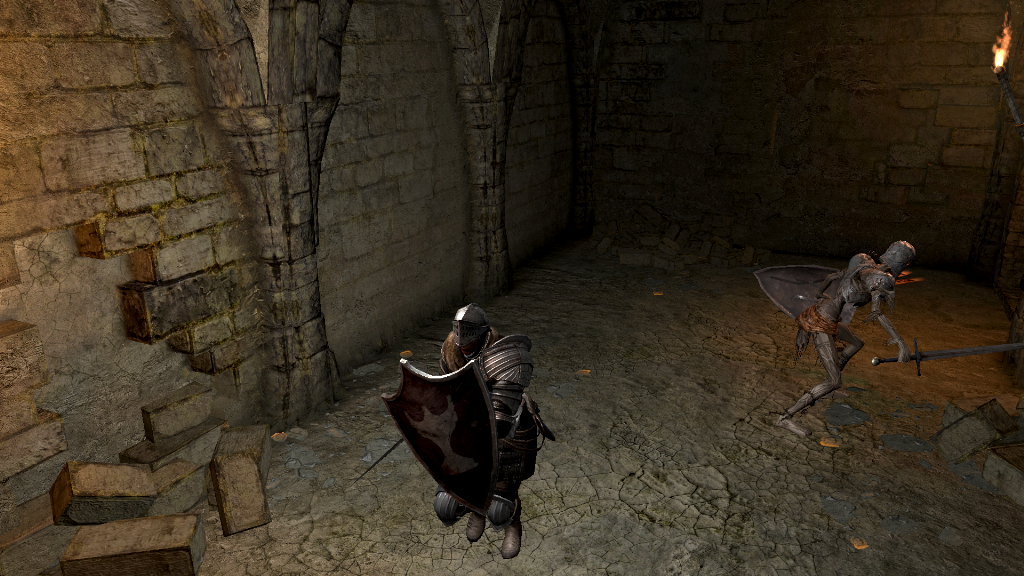player: (358, 302, 545, 563)
undeadSoldier: (775, 239, 916, 439)
